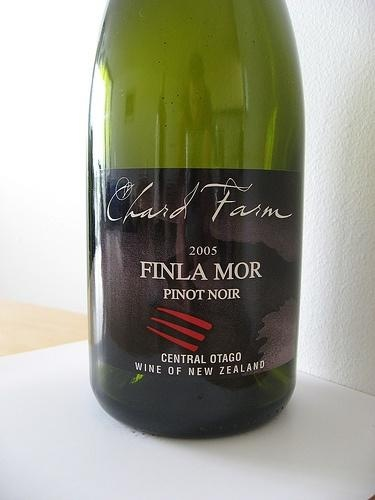bottle: (89, 2, 307, 441)
